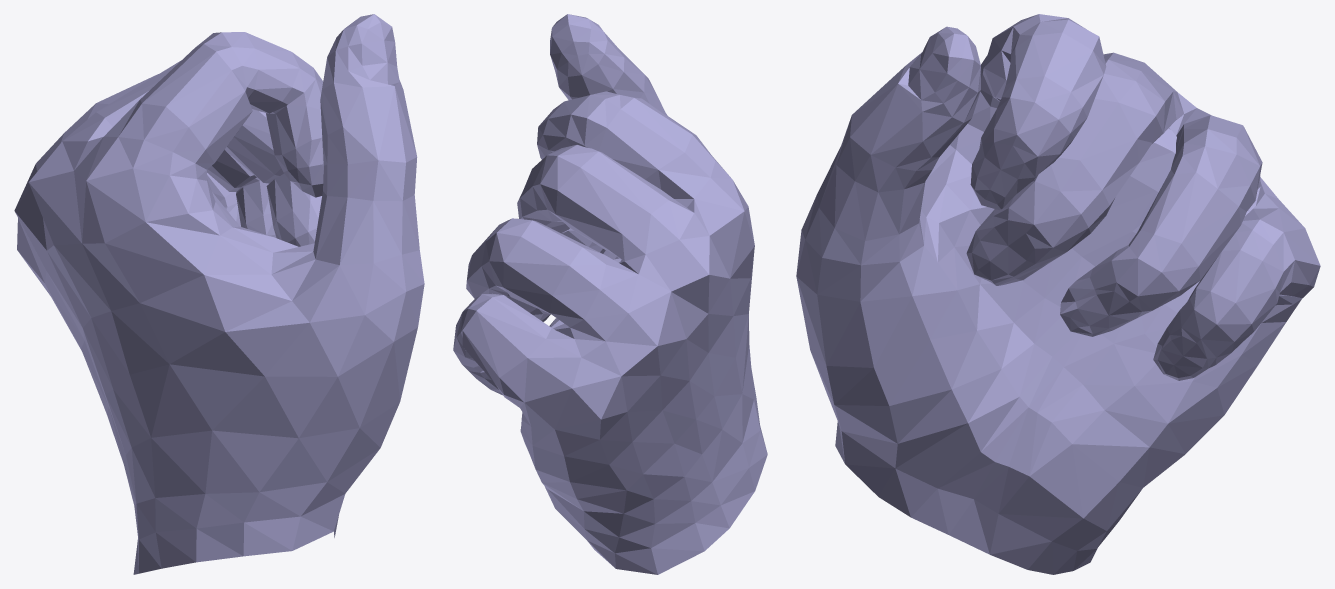
Rendered from frame_0059_source_000059_hand.glb.
3 renders of one model, left to right at view 1: azimuth 30°, elevation 25°; view 2: azimuth 150°, elevation 25°; view 3: azimuth 270°, elevation 25°, orthographic. The views are drawn at different scales.
Parts seen in each view (by area): view 1: world; view 2: world; view 3: world.
Part boxes in pixels (<box>): world: <box>14,14,424,574</box>; world: <box>453,14,767,574</box>; world: <box>796,14,1320,574</box>.
Size of the model in its own units: 0.0623 by 0.1229 by 0.0989.
